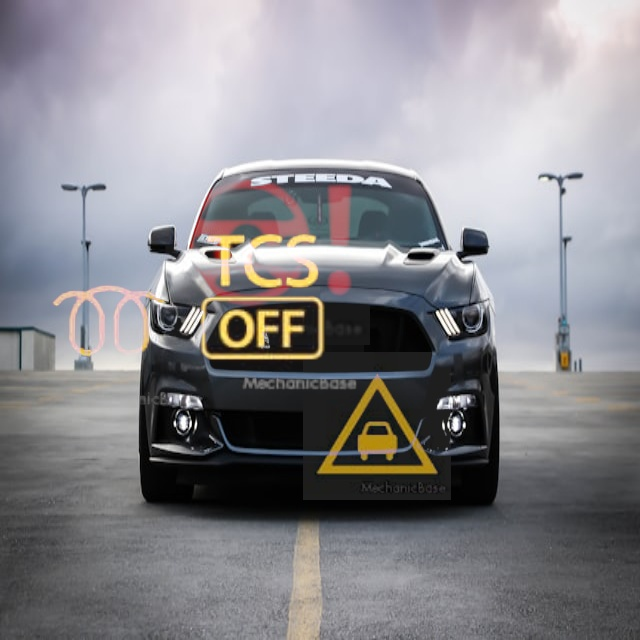symbol: (166, 141, 370, 345), (165, 200, 364, 399), (17, 230, 201, 414), (303, 352, 451, 500)
